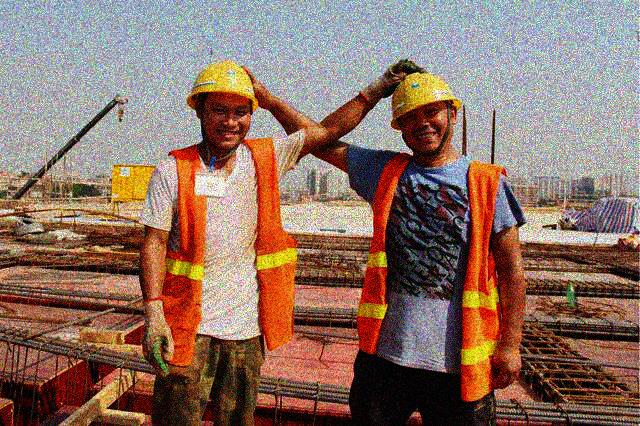helmet: (188, 61, 258, 150), (390, 72, 461, 157)
